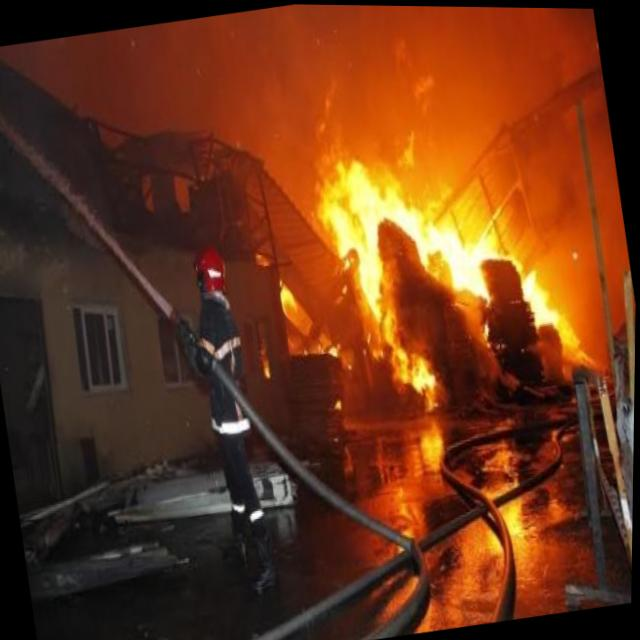fire: (292, 76, 605, 428), (278, 279, 299, 314), (259, 336, 273, 378)
